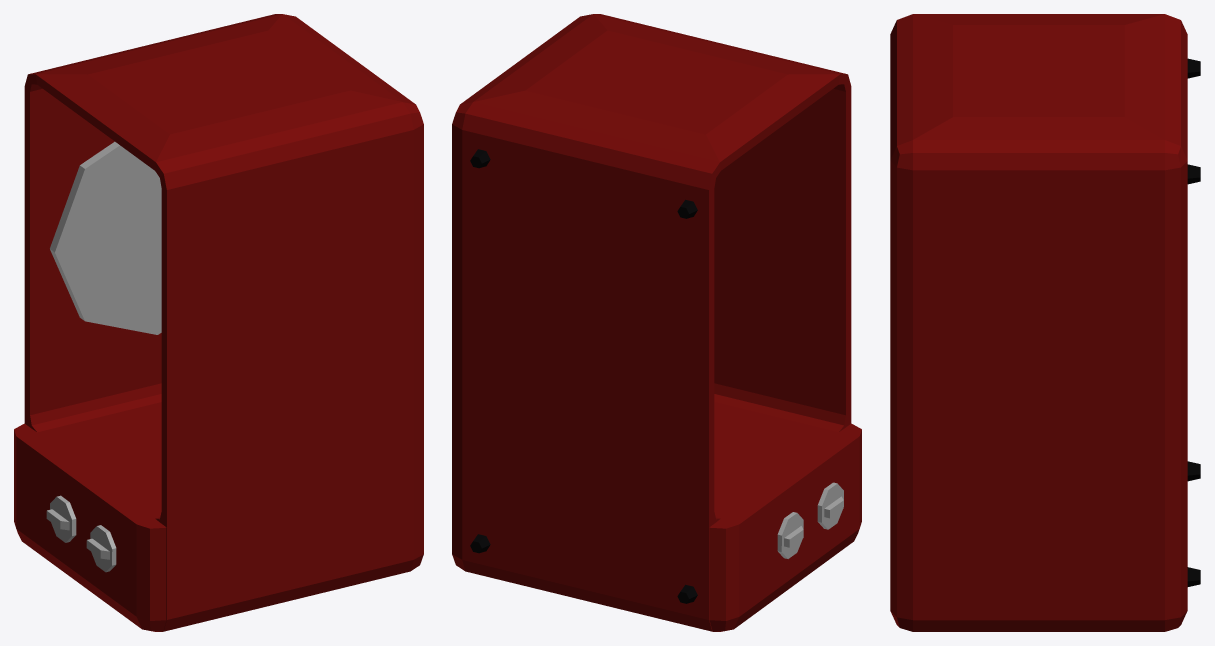
File: corpus.obj
3 renders of one model, left to right at view 1: azimuth 30°, elevation 25°; view 2: azimuth 150°, elevation 25°; view 3: azimuth 270°, elevation 25°, orthographic. The views are drawn at different scales.
Visible parts, largest first — view 1: Cylinder.057_Cylinder.075_basic_1, Cylinder.057_Cylinder.075_basic_2; view 2: Cylinder.057_Cylinder.075_basic_1, Cylinder.057_Cylinder.075_basic_2, Cylinder.057_Cylinder.075_darck; view 3: Cylinder.057_Cylinder.075_basic_1, Cylinder.057_Cylinder.075_darck.
Part boxes in pixels (<box>): Cylinder.057_Cylinder.075_basic_1: <box>14,14,423,631</box>; Cylinder.057_Cylinder.075_basic_2: <box>46,141,161,572</box>; Cylinder.057_Cylinder.075_basic_1: <box>452,14,861,631</box>; Cylinder.057_Cylinder.075_basic_2: <box>777,482,843,558</box>; Cylinder.057_Cylinder.075_darck: <box>470,149,697,603</box>; Cylinder.057_Cylinder.075_basic_1: <box>890,14,1187,631</box>; Cylinder.057_Cylinder.075_darck: <box>1187,58,1200,586</box>.
Bounding box in the file's own units: 0.0624 × 0.0972 × 0.0544.
